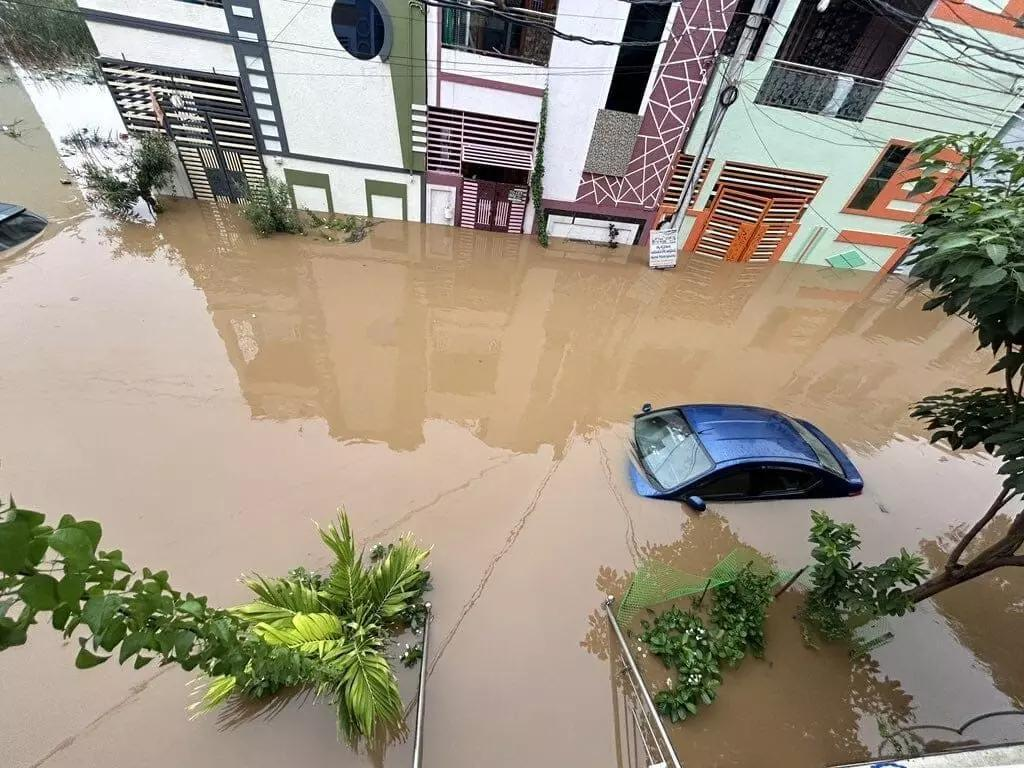water: (2, 259, 937, 766), (0, 190, 1007, 565), (663, 565, 1023, 764), (0, 614, 423, 765), (1, 67, 129, 221), (955, 495, 1023, 567)
